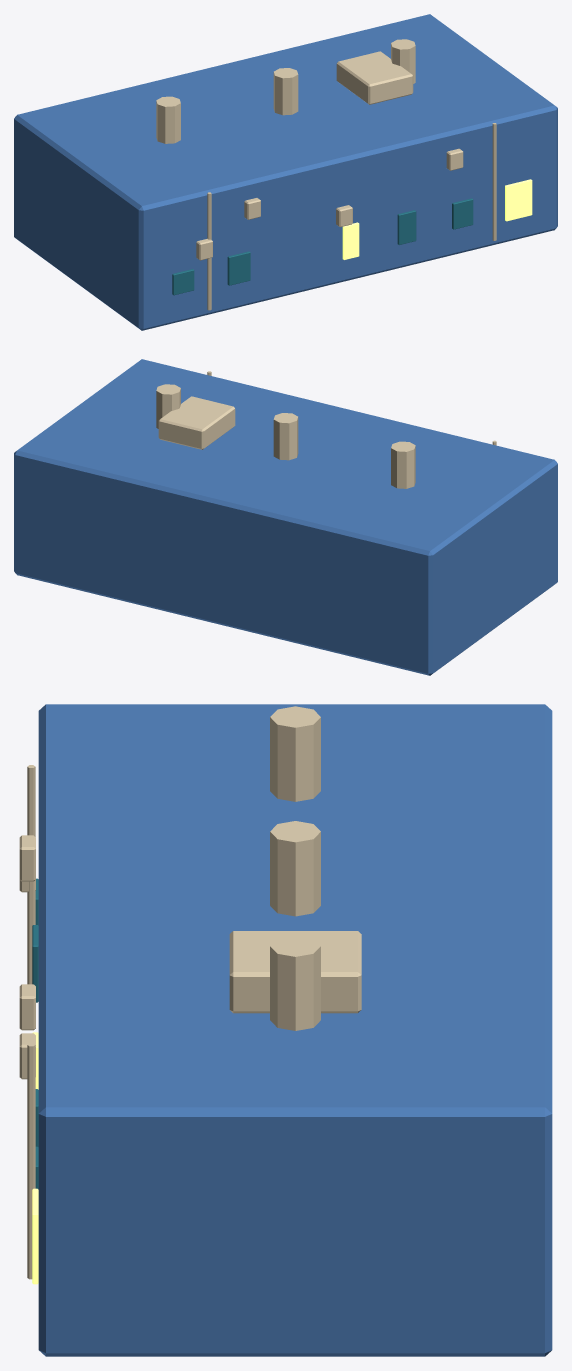
Rendered from building_021_seed11.glb.
3 renders of one model, top to bottom at view 1: azimuth 30°, elevation 25°; view 2: azimuth 150°, elevation 25°; view 3: azimuth 270°, elevation 25°, orthographic. The views are drawn at different scales.
Parts seen in each view (by area): view 1: building_021_seed11; view 2: building_021_seed11; view 3: building_021_seed11.
Part boxes in pixels (x1,y1,x2,y2): building_021_seed11: (14,14,557,330); building_021_seed11: (14,359,557,675); building_021_seed11: (19,704,552,1356).
Bounding box in the file's own units: 10.65 × 3.93 × 5.86.
